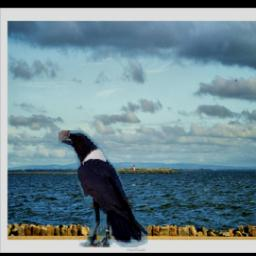Crow: (58, 130, 148, 247)
